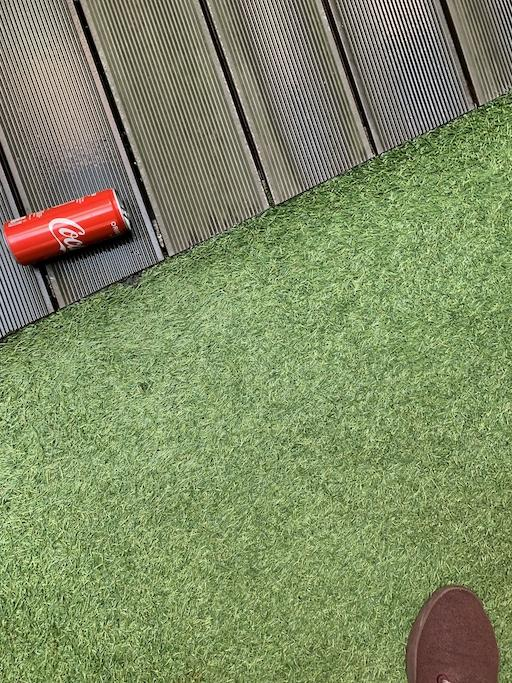Aluminum can: (2, 172, 134, 281)
